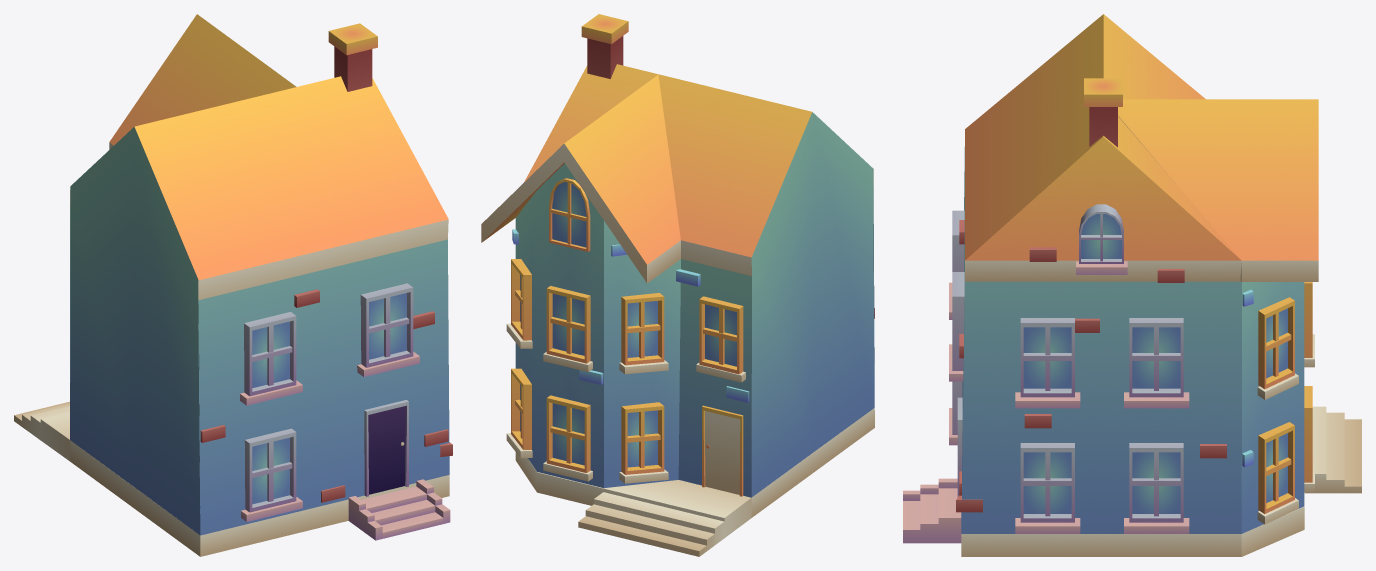
The model's file is SM_House_L_Short_BackDoor_02.fbx.
3 views of the same model, side by side, from view 1: azimuth 30°, elevation 25°; view 2: azimuth 150°, elevation 25°; view 3: azimuth 270°, elevation 25° (orthographic). The views are drawn at different scales.
Visible parts, largest first — view 1: SM_House_L_Short_BackDoor_02; view 2: SM_House_L_Short_BackDoor_02; view 3: SM_House_L_Short_BackDoor_02.
Part boxes in pixels (x1,y1,x2,y2): SM_House_L_Short_BackDoor_02: (14,14,452,556); SM_House_L_Short_BackDoor_02: (481,14,874,556); SM_House_L_Short_BackDoor_02: (903,14,1361,556).
Size of the model in its own units: 7.23 by 10.04 by 10.97.
